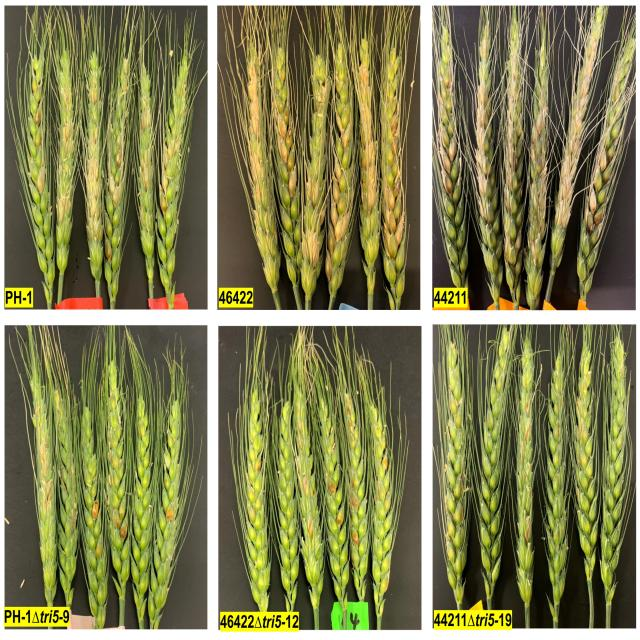Wheathead: (432, 0, 633, 284), (10, 0, 194, 289), (225, 0, 412, 284), (2, 326, 194, 602), (434, 328, 632, 591), (227, 329, 414, 593)
